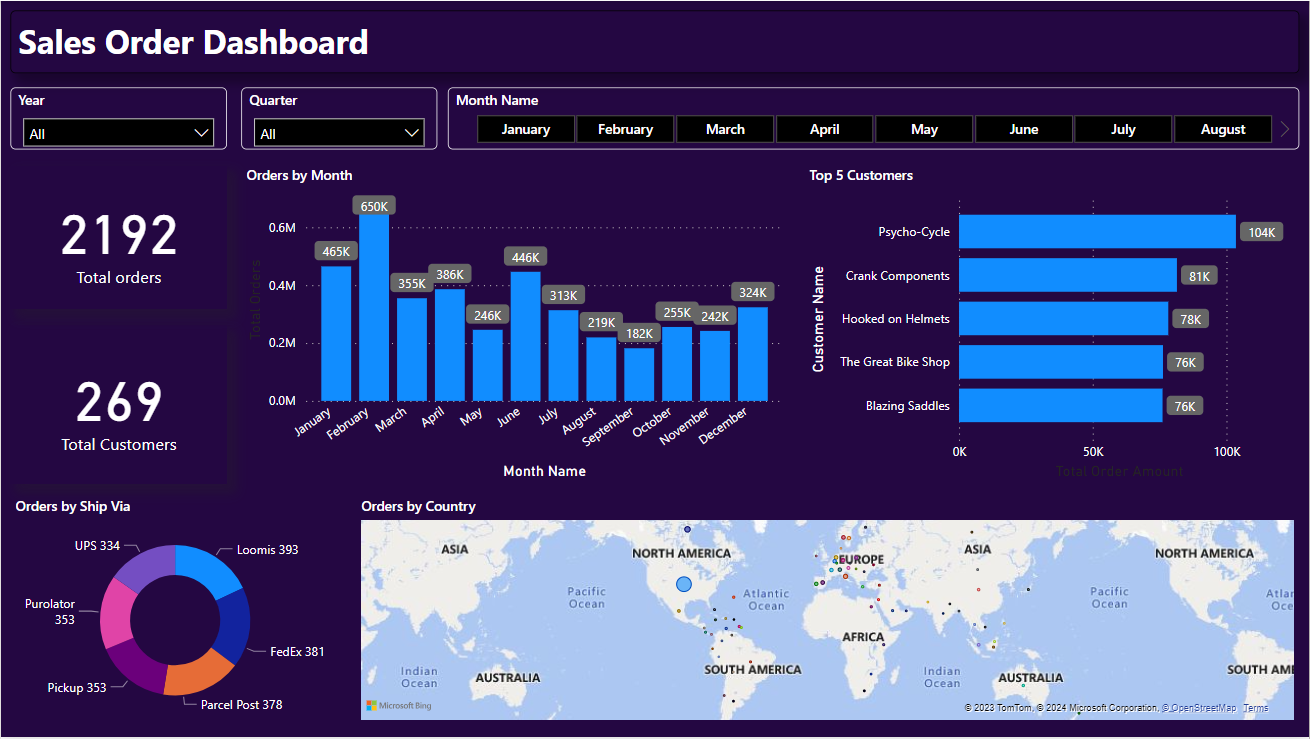

What the dashboard file says about the page in this screenshot:
{"tool":"powerbi","page":{"name":"Duplicate of Order details-vani","canvas":[1280,720],"ordinal":3},"visuals":[{"type":"slicer","title":"Year","fields":{"Values":["Orders.Year"]},"box":[9.4,84.5,212,60.4],"z":0},{"type":"slicer","title":"Quarter","fields":{"Values":["Orders.Qtr"]},"box":[234.8,84.5,191.9,60.4],"z":1000},{"type":"slicer","title":"Month Name","fields":{"Values":["Orders.Month Name"]},"box":[437.4,84.5,833.3,60.4],"z":2000},{"type":"textbox","box":[9.4,9.4,1261.3,61.7],"z":3000},{"type":"card","fields":{"Values":["Orders.Order ID"]},"box":[9.4,161,212,140.9],"z":4000},{"type":"card","fields":{"Values":["Customer.Customer ID"]},"box":[9.4,316.7,212,155.7],"z":5000},{"type":"columnChart","title":"Orders by Month","fields":{"Category":["Orders.Month Name"],"Y":["Orders.Order Amount"]},"box":[234.8,161,535.4,311.3],"z":6000},{"type":"barChart","title":"Top 5 Customers","fields":{"Category":["Customer.Customer Name"],"Y":["Orders.Order Amount"]},"box":[786.3,161,484.4,311.3],"z":7000},{"type":"donutChart","fields":{"Category":["Orders.Ship Via"],"Y":["Orders.Shipped"]},"box":[9.4,484.4,322,224.1],"z":8000},{"type":"map","title":"Orders by Country","fields":{"Category":["Customer.Country"],"Size":["Orders.Order Amount"],"Series":["Customer.Country"]},"box":[347.5,484.4,923.2,224.1],"z":9000}]}

Visuals, with their boxes in screenshot pixels (x1, y1, x2, y2), scaled from the page's 1280x720 canvas onto the 1310x739 screenshot:
"Year" slicer: x1=10, y1=87, x2=227, y2=149
"Quarter" slicer: x1=240, y1=87, x2=437, y2=149
"Month Name" slicer: x1=448, y1=87, x2=1300, y2=149
textbox: x1=10, y1=10, x2=1300, y2=73
card - Orders.Order ID: x1=10, y1=165, x2=227, y2=310
card - Customer.Customer ID: x1=10, y1=325, x2=227, y2=485
"Orders by Month" columnChart: x1=240, y1=165, x2=788, y2=485
"Top 5 Customers" barChart: x1=805, y1=165, x2=1300, y2=485
donutChart - Orders.Ship Via x Orders.Shipped: x1=10, y1=497, x2=339, y2=727
"Orders by Country" map: x1=356, y1=497, x2=1300, y2=727
